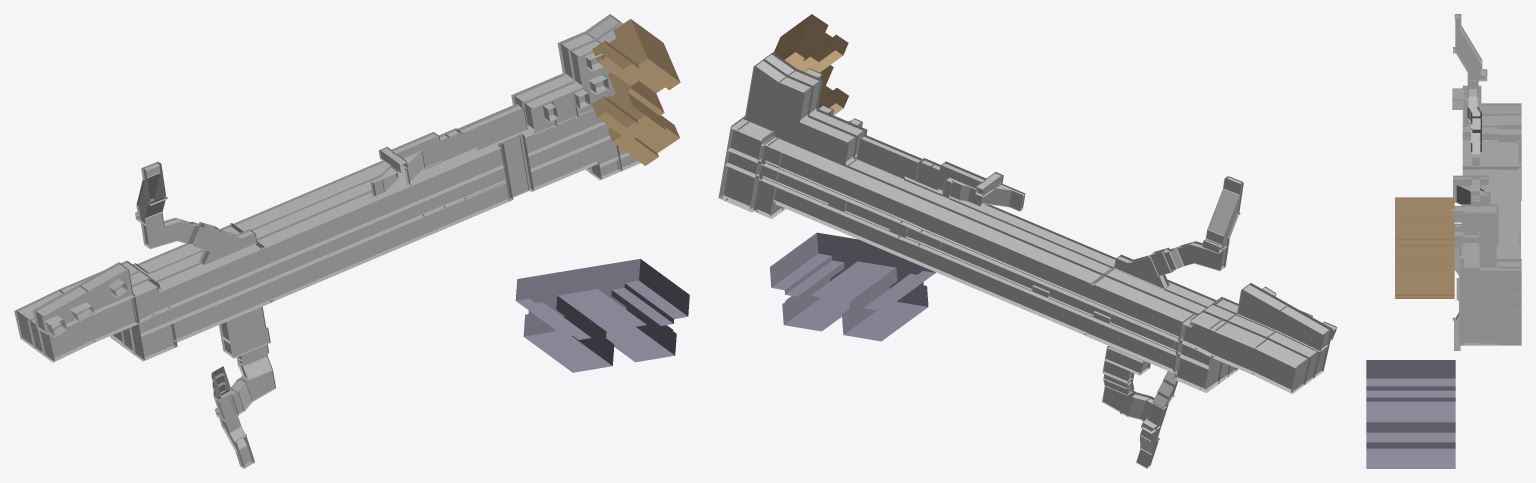
3 views of the same model, side by side, from view 1: azimuth 30°, elevation 25°; view 2: azimuth 150°, elevation 25°; view 3: azimuth 270°, elevation 25° (orthographic). The views are drawn at different scales.
Parts seen in each view (by area): view 1: 0_1_3_2_1; view 2: 0_1_3_2_1; view 3: 0_1_3_2_1.
Part boxes in pixels (x1,y1,x2,y2): 0_1_3_2_1: [14, 14, 689, 468]; 0_1_3_2_1: [718, 14, 1337, 468]; 0_1_3_2_1: [1366, 14, 1521, 468].
Size of the model in its own units: 258 by 143 by 62.53.
